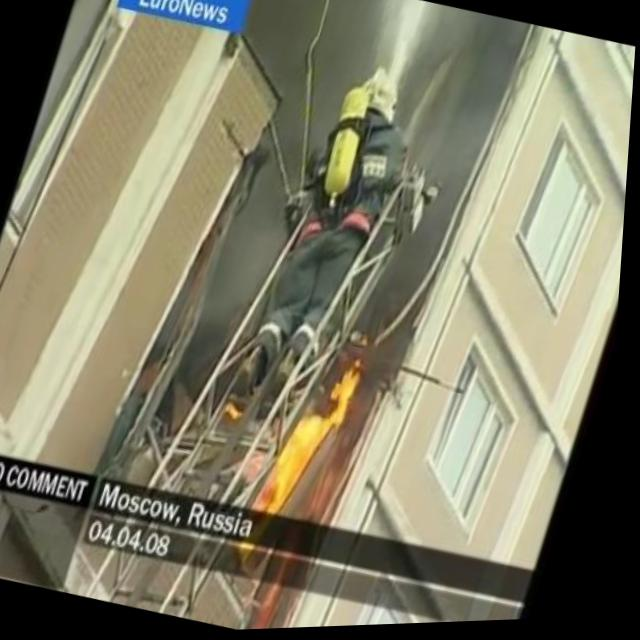fire: (260, 342, 381, 528), (224, 398, 255, 427)
